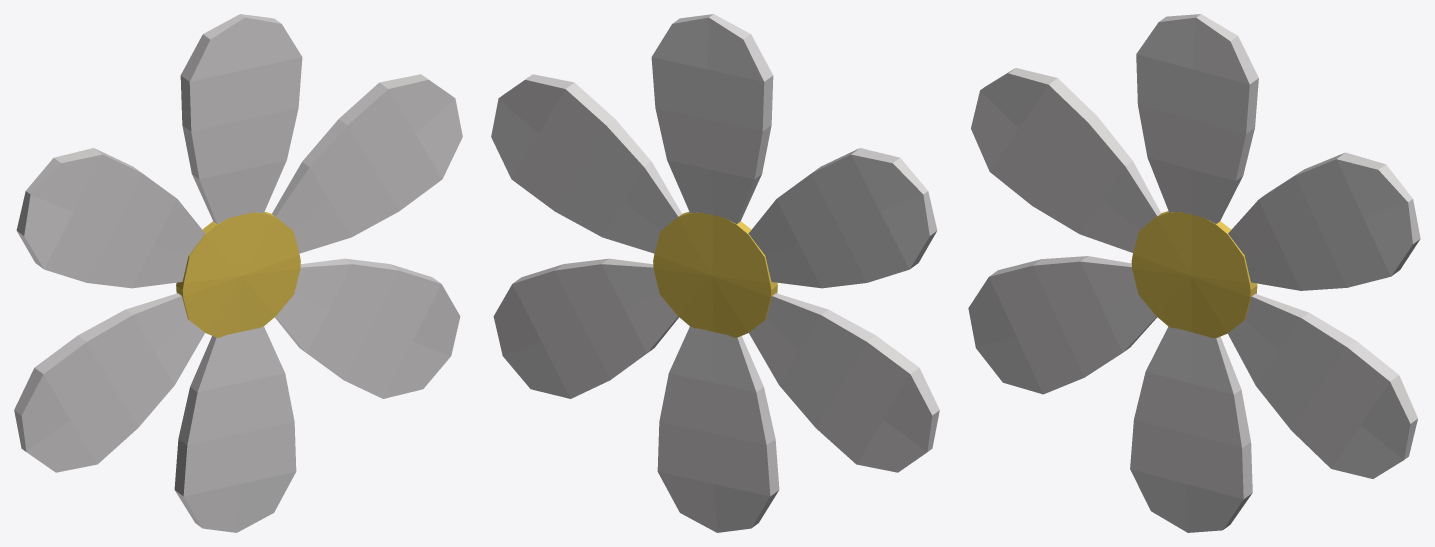
The model's file is fleur_seule_01.glb.
The picture shows the model from 3 angles, left to right: view 1: azimuth 30°, elevation 25°; view 2: azimuth 150°, elevation 25°; view 3: azimuth 330°, elevation 25°; orthographic projection.
Parts seen in each view (by area): view 1: fleur blanche coeur jaune; view 2: fleur blanche coeur jaune; view 3: fleur blanche coeur jaune.
Part boxes in pixels (x1,y1,x2,y2): fleur blanche coeur jaune: (14,14,462,532); fleur blanche coeur jaune: (491,14,939,532); fleur blanche coeur jaune: (968,14,1420,532).
Size of the model in its own units: 0.0209 by 0.0232 by 0.000743.
